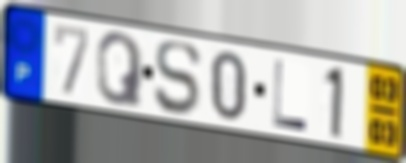0: (208, 49, 250, 123)
1: (321, 64, 346, 141)
7: (51, 21, 91, 99)
L: (272, 56, 311, 134)
Q: (94, 30, 146, 111)
S: (153, 39, 204, 118)
